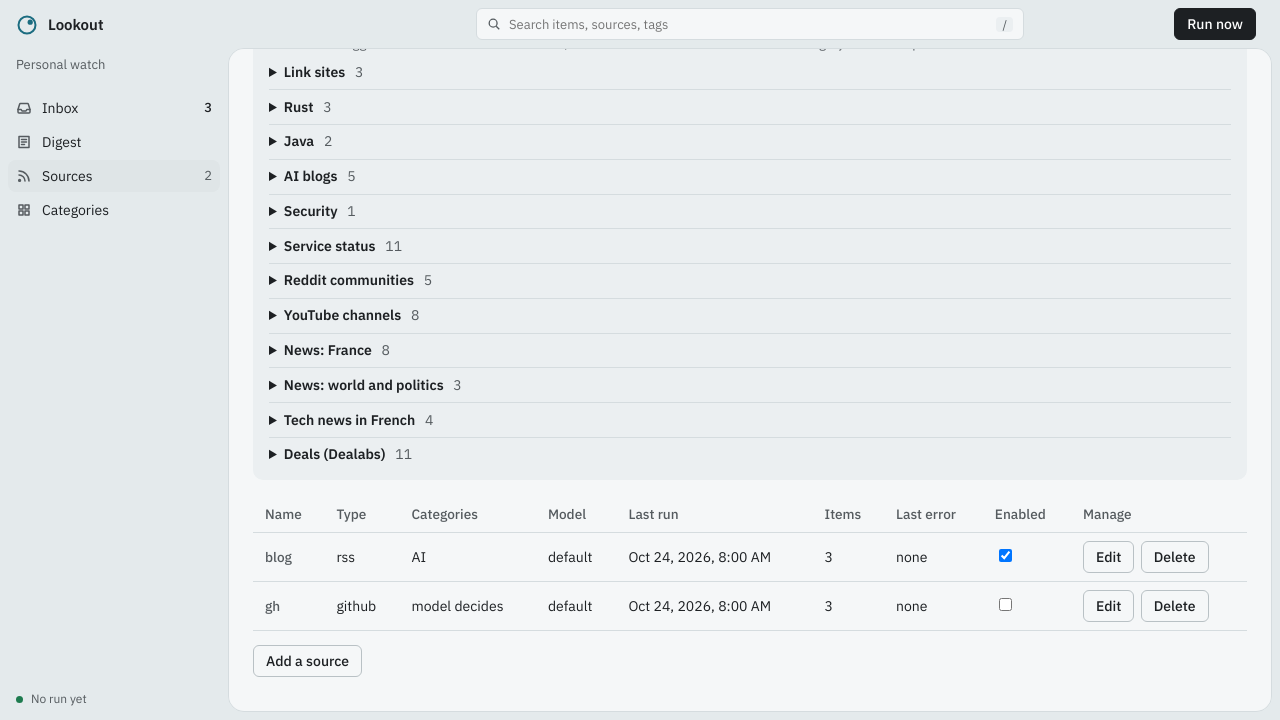
Test: sources › shows why a category could not be created from the form and keeps what was typed
(page scrolled)
Click the button "Add a source": coordinates (308, 661) [253,645,362,677]
(page scrolled)
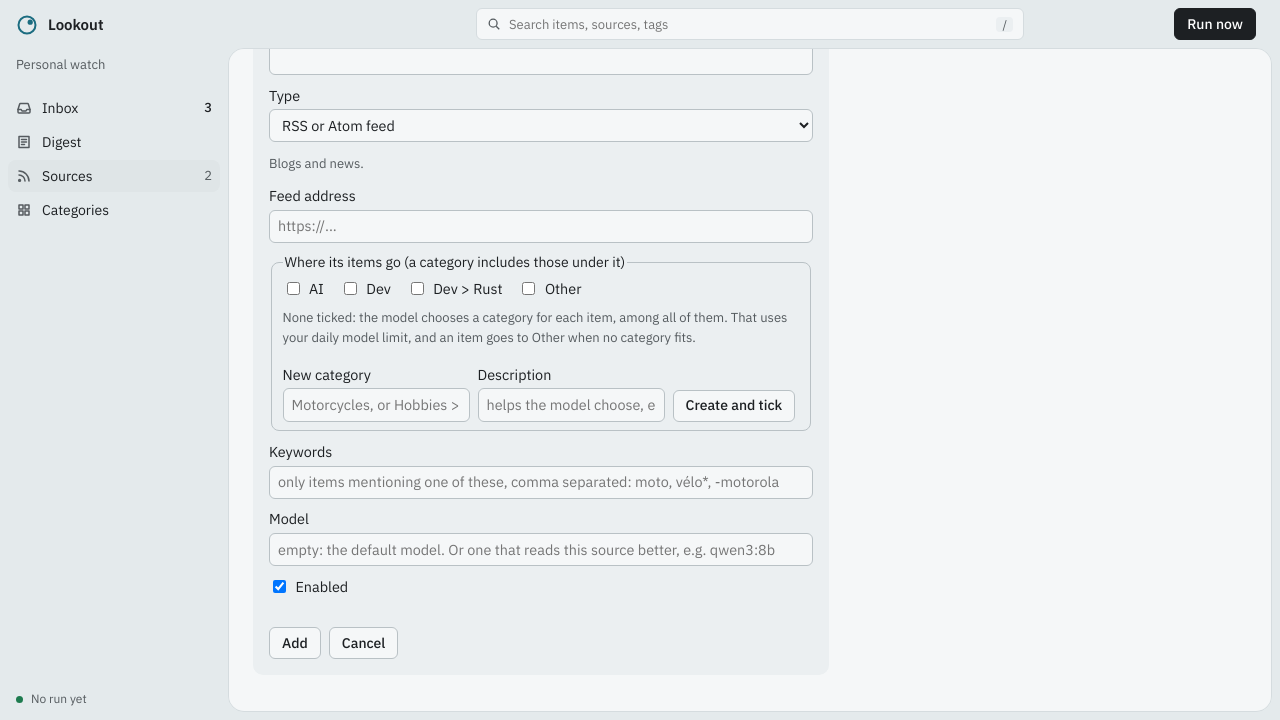
In the field labelled "New category": coordinates (376, 405) [282,388,470,422], type "AI"
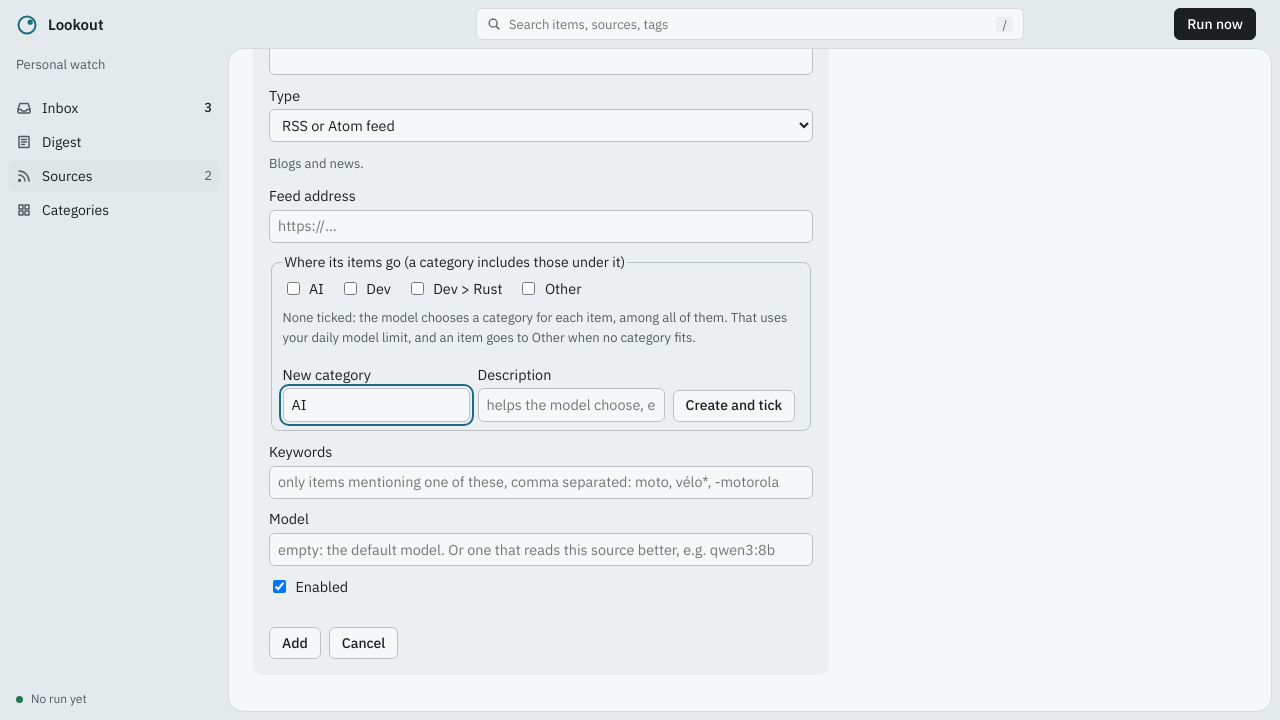
Click the button "Create and tick": coordinates (734, 406) [672,390,795,422]
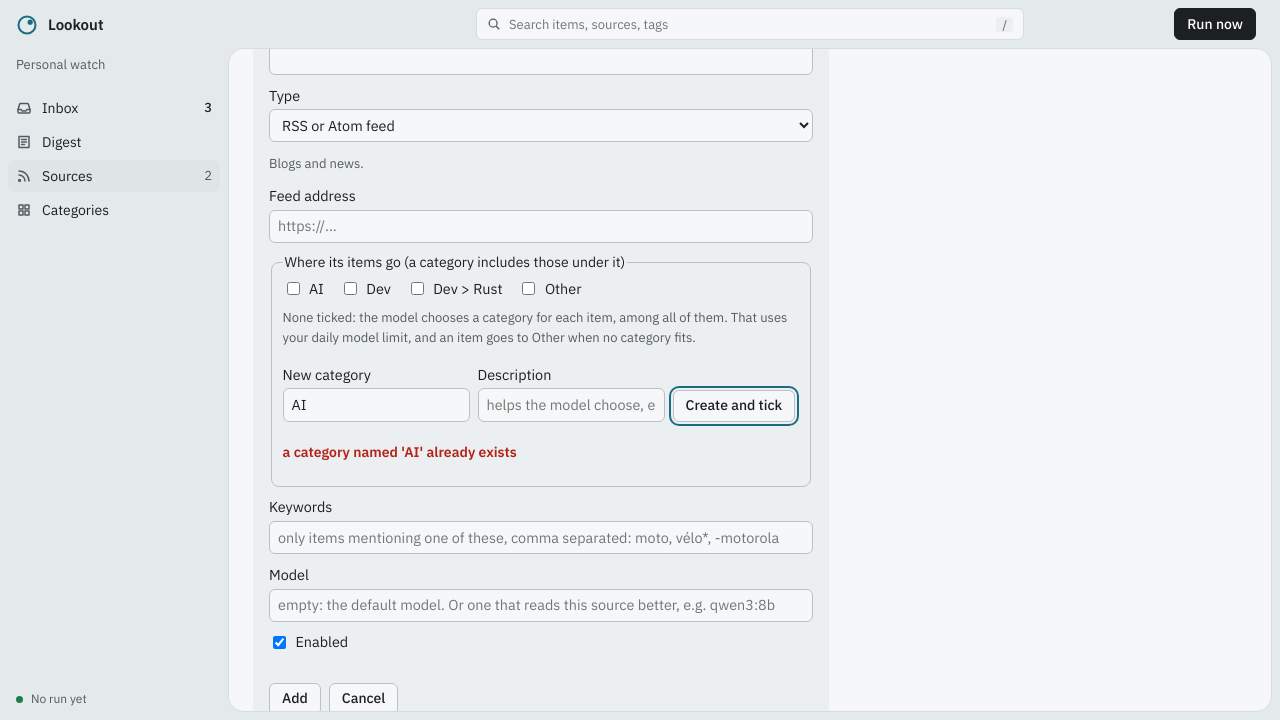
Result: the message reads "a category named 'AI' already exists" at [282,443,517,461]
